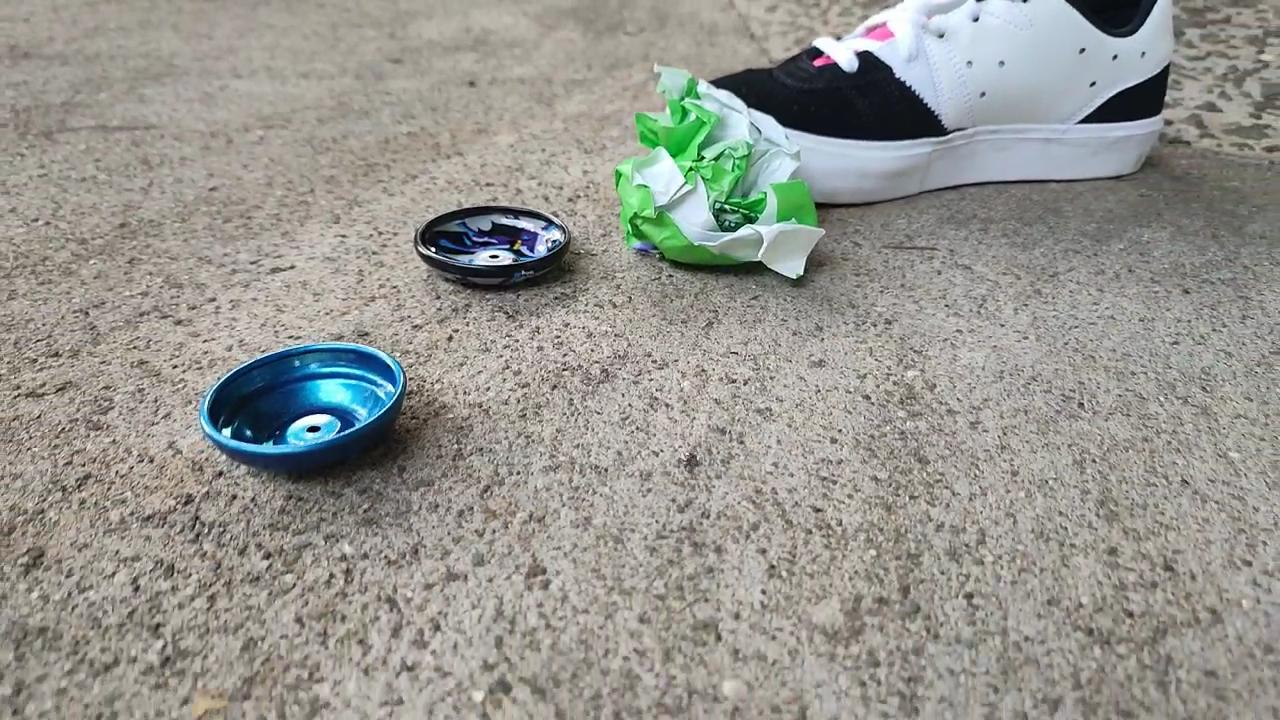Paper: (594, 59, 833, 286)
